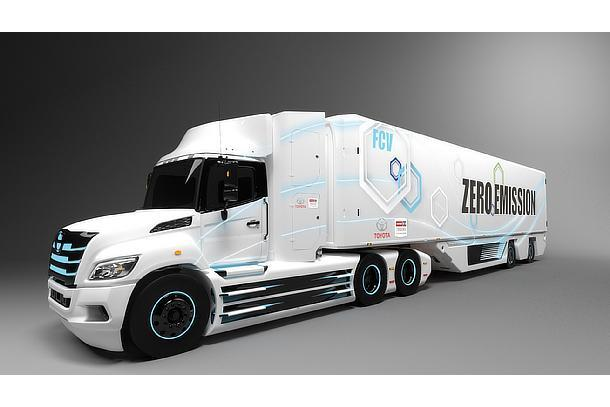truck: (47, 110, 548, 362)
